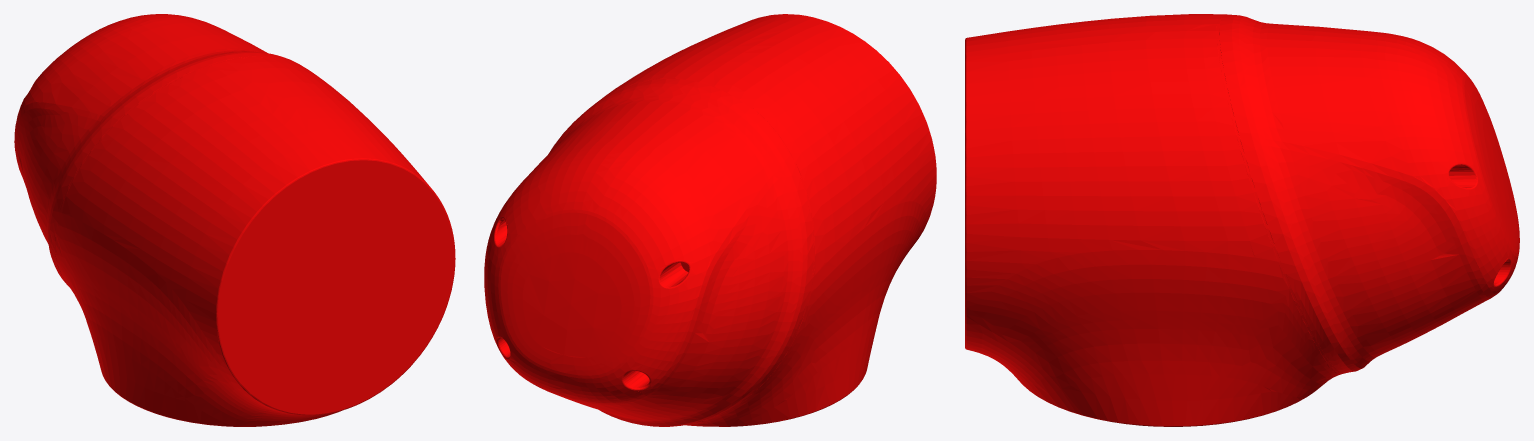
3 views of the same model, side by side, from view 1: azimuth 30°, elevation 25°; view 2: azimuth 150°, elevation 25°; view 3: azimuth 270°, elevation 25° (orthographic). The views are drawn at different scales.
Parts seen in each view (by area): view 1: A0912_4_2; view 2: A0912_4_2; view 3: A0912_4_2.
Part boxes in pixels (x1,y1,x2,y2): A0912_4_2: [14, 14, 455, 426]; A0912_4_2: [484, 14, 936, 426]; A0912_4_2: [965, 14, 1519, 426].
Bounding box in the file's own units: 101 × 155 × 101.
